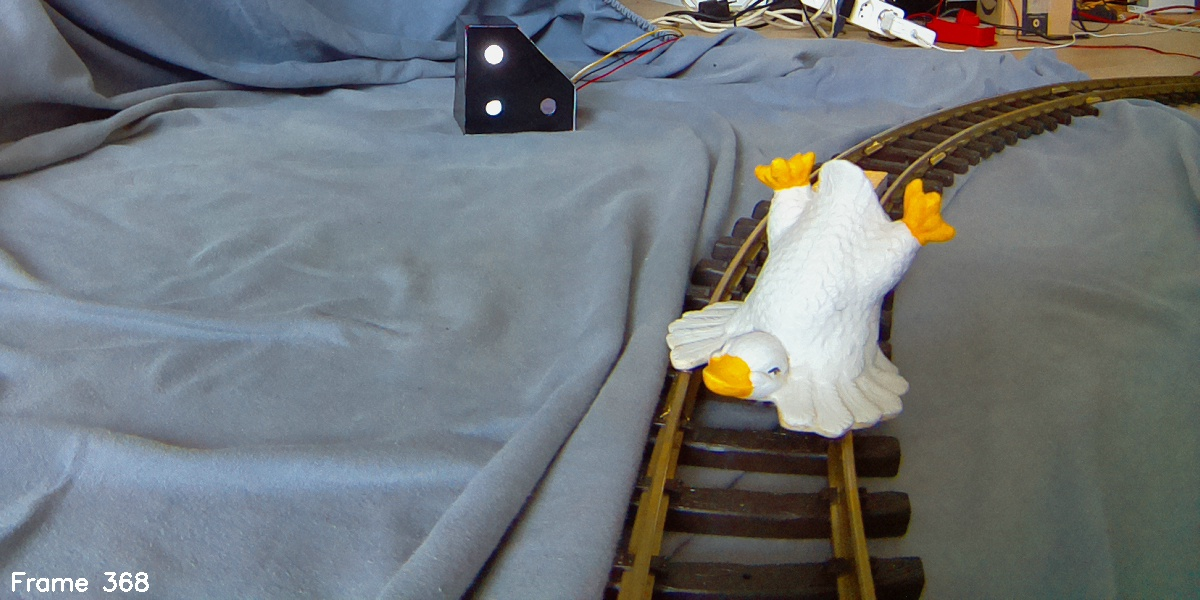Ente: (664, 149, 954, 442)
Fahrt: (456, 11, 579, 136)
